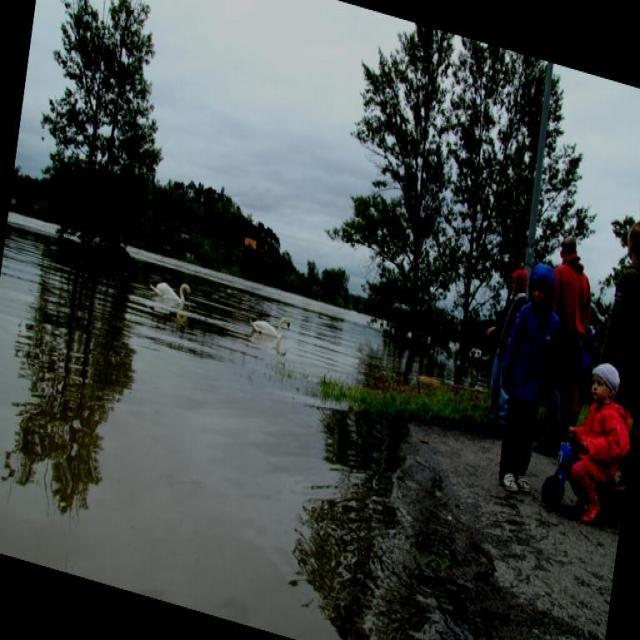flood: (0, 204, 415, 639)
